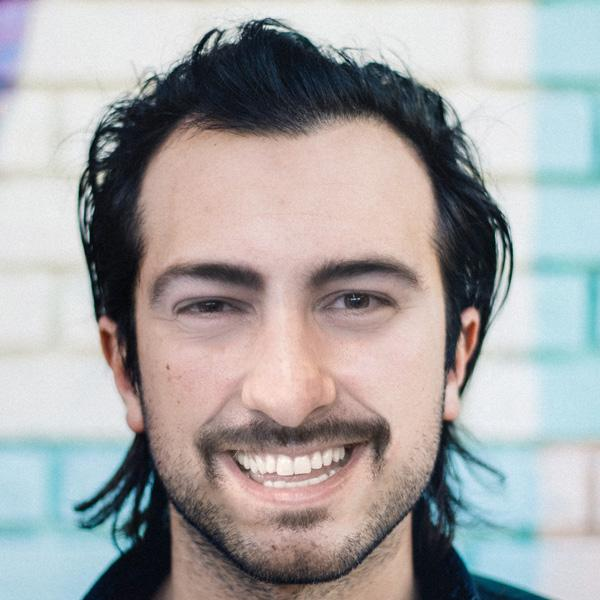Eyes: (305, 277, 406, 328), (159, 284, 261, 334)
